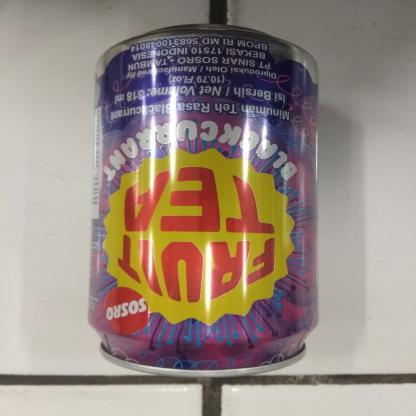bottle: (80, 16, 329, 381)
